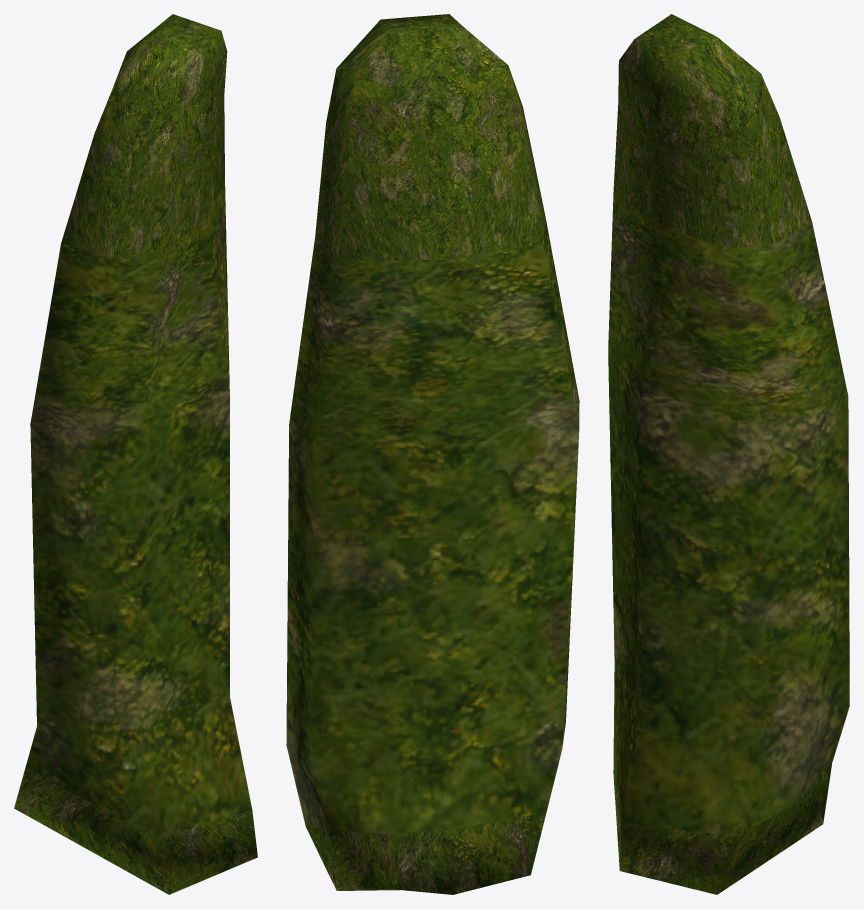
Rendered from ANIMATEDINSTANCES_ROCK_BRIDGE03__AI.fbx.
The picture shows the model from 3 angles, left to right: view 1: azimuth 30°, elevation 25°; view 2: azimuth 150°, elevation 25°; view 3: azimuth 270°, elevation 25°; orthographic projection. The views are drawn at different scales.
Visible parts, largest first — view 1: ANIMATEDINSTANCES_ROCK_BRIDGE03__AI; view 2: ANIMATEDINSTANCES_ROCK_BRIDGE03__AI; view 3: ANIMATEDINSTANCES_ROCK_BRIDGE03__AI.
Boxes of the visible parts, x1,y1,x2,y2 form: ANIMATEDINSTANCES_ROCK_BRIDGE03__AI: (14,14,257,894); ANIMATEDINSTANCES_ROCK_BRIDGE03__AI: (286,14,579,894); ANIMATEDINSTANCES_ROCK_BRIDGE03__AI: (608,14,849,894).
Size of the model in its own units: 13633 by 47297 by 12429.
1 material, 1 textured.
